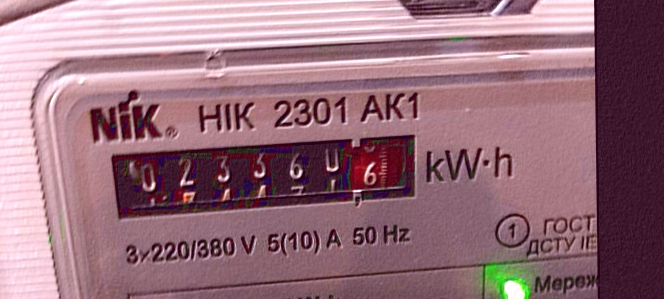0: (137, 160, 159, 194), (319, 143, 342, 175)
2: (176, 154, 196, 187)
3: (249, 146, 269, 179), (212, 153, 231, 184)
6: (285, 148, 306, 181), (360, 156, 381, 189)
screen: (94, 125, 433, 224)
